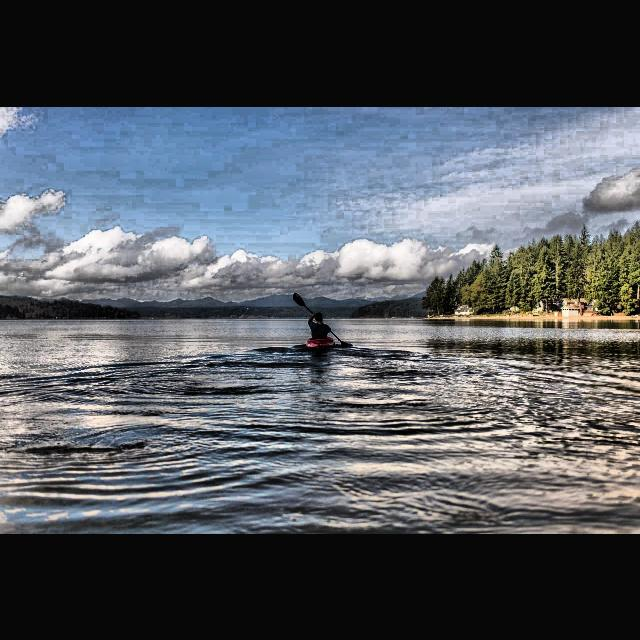kayak: (306, 336, 336, 349)
